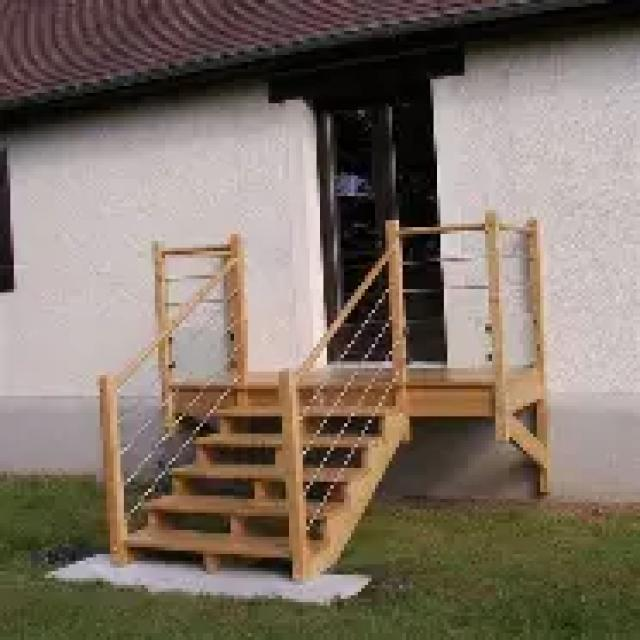Stairs: (95, 329, 389, 591)
